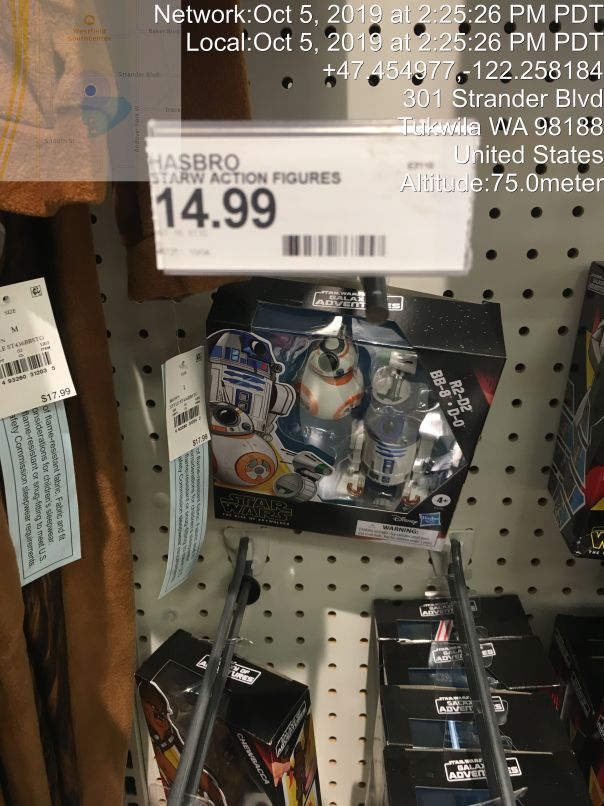Hasbro Starw action Figures: (195, 280, 506, 574)
Label: (139, 116, 493, 284)
Location: (392, 82, 604, 171)
Time: (147, 2, 604, 57)
